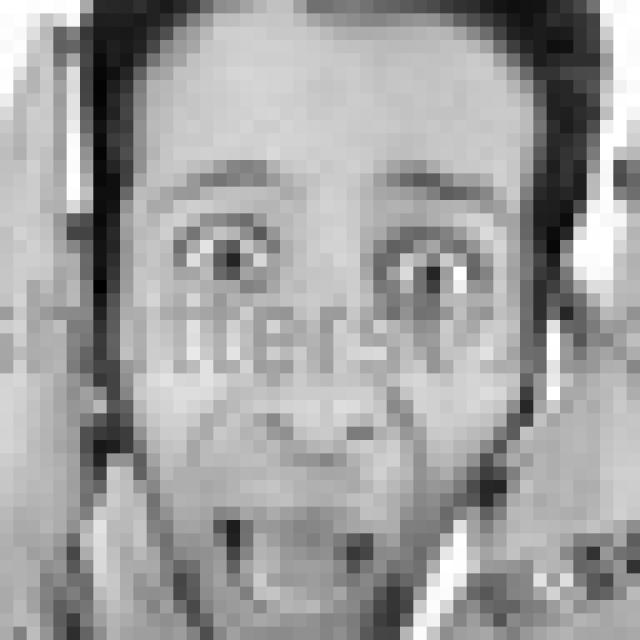fear: (153, 156, 510, 640)
